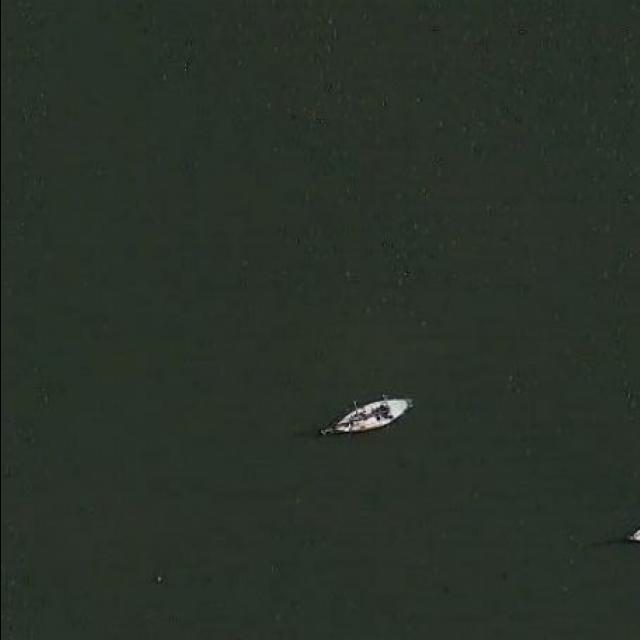ship: (323, 390, 414, 438)
